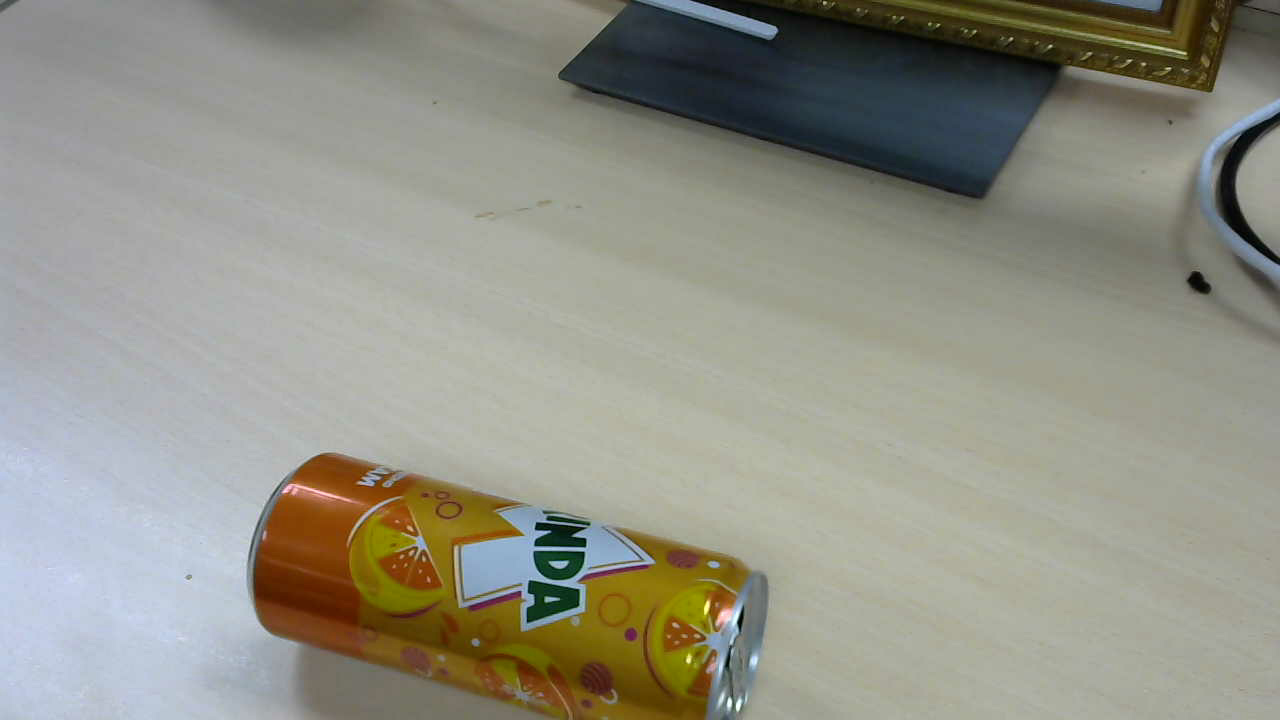Mirinda: (252, 456, 776, 696)
